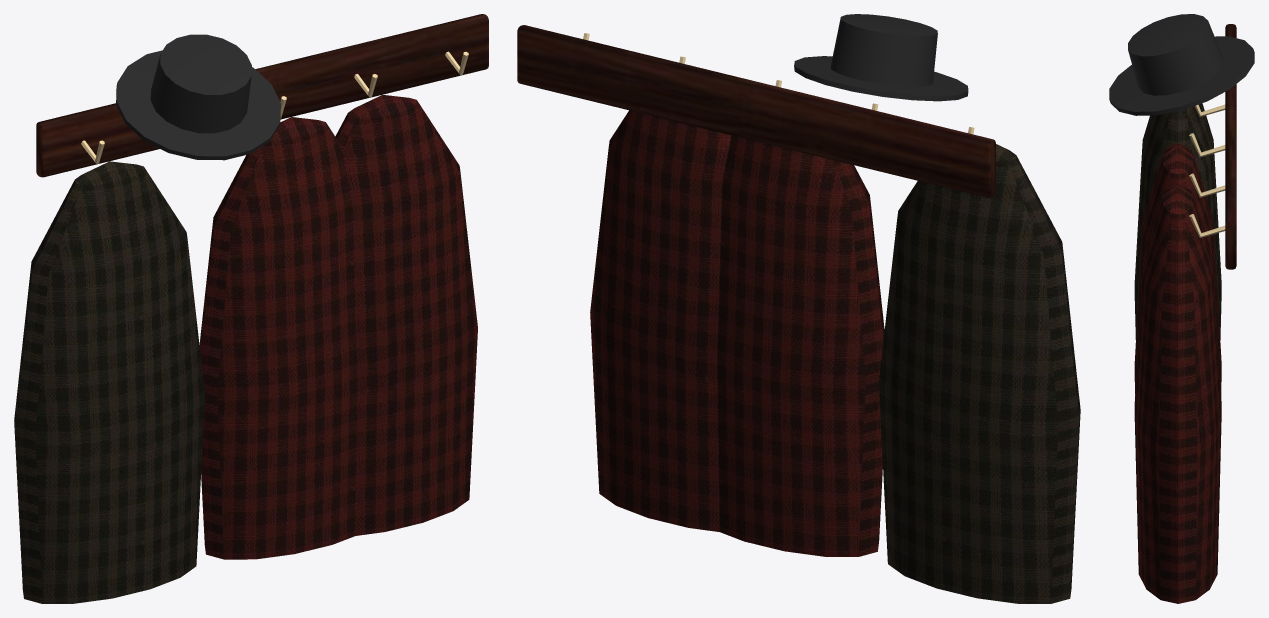
File: coat_rack.glb
3 renders of one model, left to right at view 1: azimuth 30°, elevation 25°; view 2: azimuth 150°, elevation 25°; view 3: azimuth 270°, elevation 25°, orthographic. The views are drawn at different scales.
Parts seen in each view (by area): view 1: Coat 2, Coat, Coat rail, Hat, Brass; view 2: Coat 2, Coat, Coat rail, Hat; view 3: Coat 2, Hat, Coat, Coat rail, Brass.
Boxes of the visible parts, x1,y1,x2,y2 form: Coat 2: (199,94,477,559); Coat: (14,161,204,603); Coat rail: (36,14,488,177); Hat: (116,34,280,160); Brass: (81,51,468,163); Coat 2: (590,110,884,556); Coat: (878,144,1080,603); Coat rail: (517,25,995,197); Hat: (794,14,968,101); Coat 2: (1134,144,1221,603); Hat: (1109,14,1254,115); Coat: (1134,103,1221,339); Coat rail: (1225,24,1236,269); Brass: (1189,104,1225,237).
Size of the model in its own units: 1.17 by 1.15 by 0.3228.
5 materials, 3 textured.
